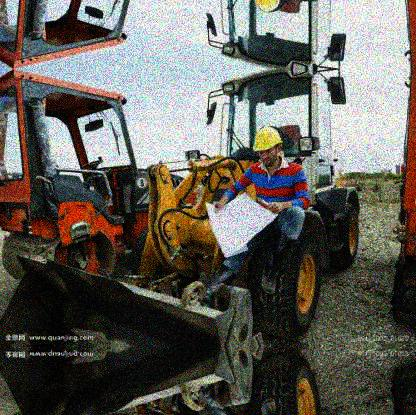helmet: (252, 126, 283, 168)
